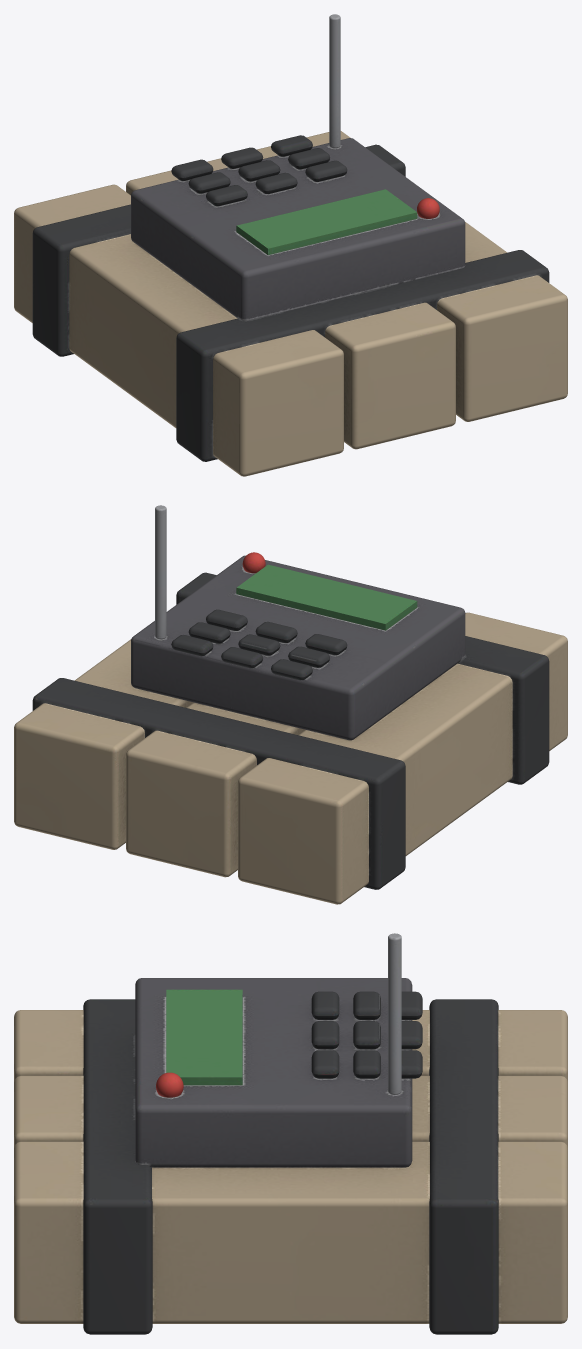
3 views of the same model, one above another, from view 1: azimuth 30°, elevation 25°; view 2: azimuth 150°, elevation 25°; view 3: azimuth 270°, elevation 25° (orthographic). The views are drawn at different scales.
Parts seen in each view (by area): view 1: c4; view 2: c4; view 3: c4.
Part boxes in pixels (x1,y1,x2,y2): c4: (14, 14, 567, 476); c4: (14, 505, 567, 904); c4: (14, 933, 567, 1334).
Bounding box in the file's own units: 0.14 × 0.1115 × 0.16.
